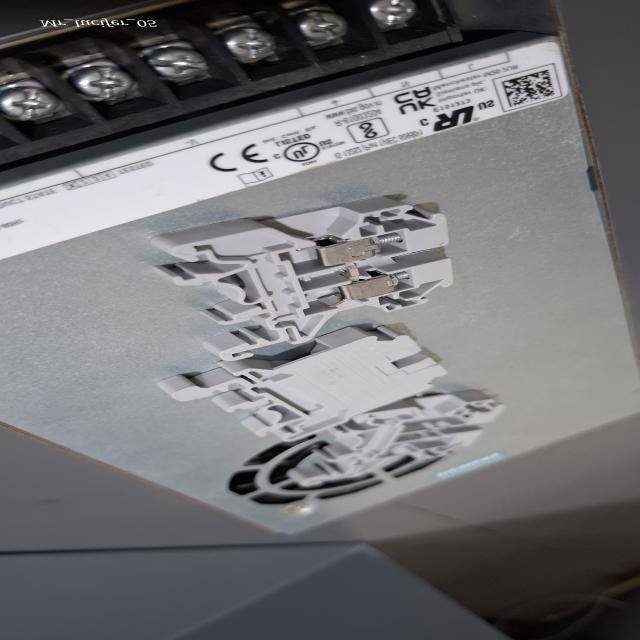Inverted: (168, 346, 476, 434)
Pass: (140, 190, 466, 344)
Reject: (258, 391, 509, 504)
